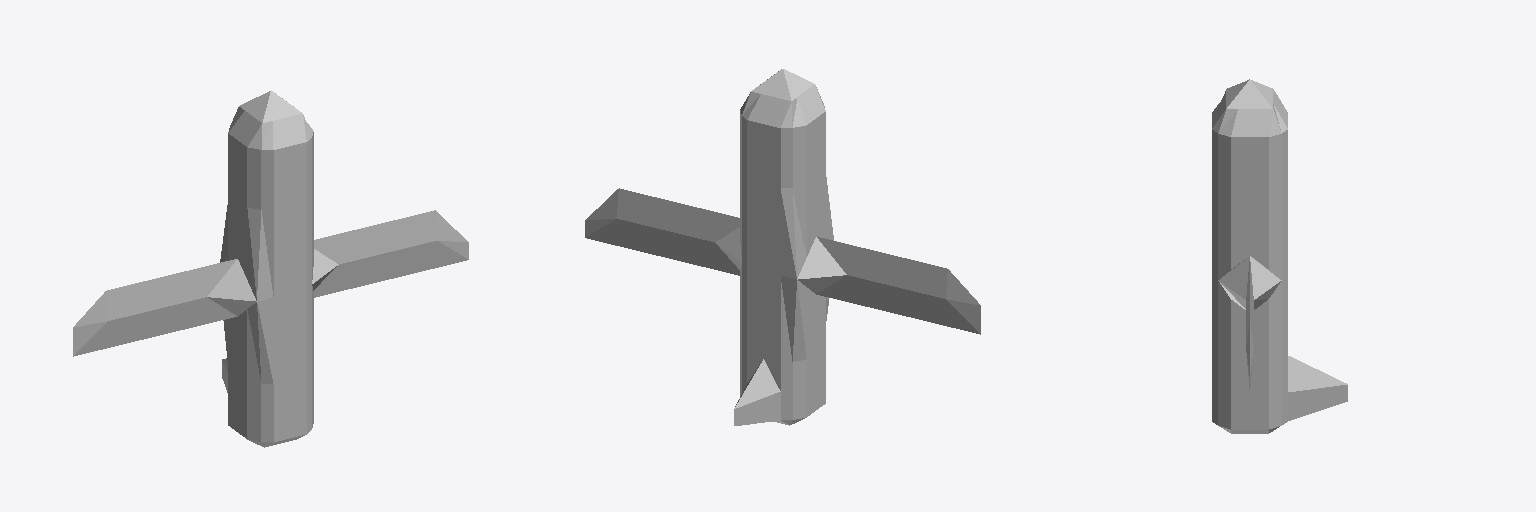
File: shootingPlayer.obj
The picture shows the model from 3 angles: view 1: azimuth 30°, elevation 25°; view 2: azimuth 150°, elevation 25°; view 3: azimuth 270°, elevation 25°; orthographic projection.
Parts seen in each view (by area): view 1: Cube; view 2: Cube; view 3: Cube.
Boxes of the visible parts, x1,y1,x2,y2 form: Cube: [73, 91, 468, 447]; Cube: [585, 69, 980, 425]; Cube: [1212, 79, 1347, 433].
Size of the model in its own units: 11.96 by 10.17 by 3.57.